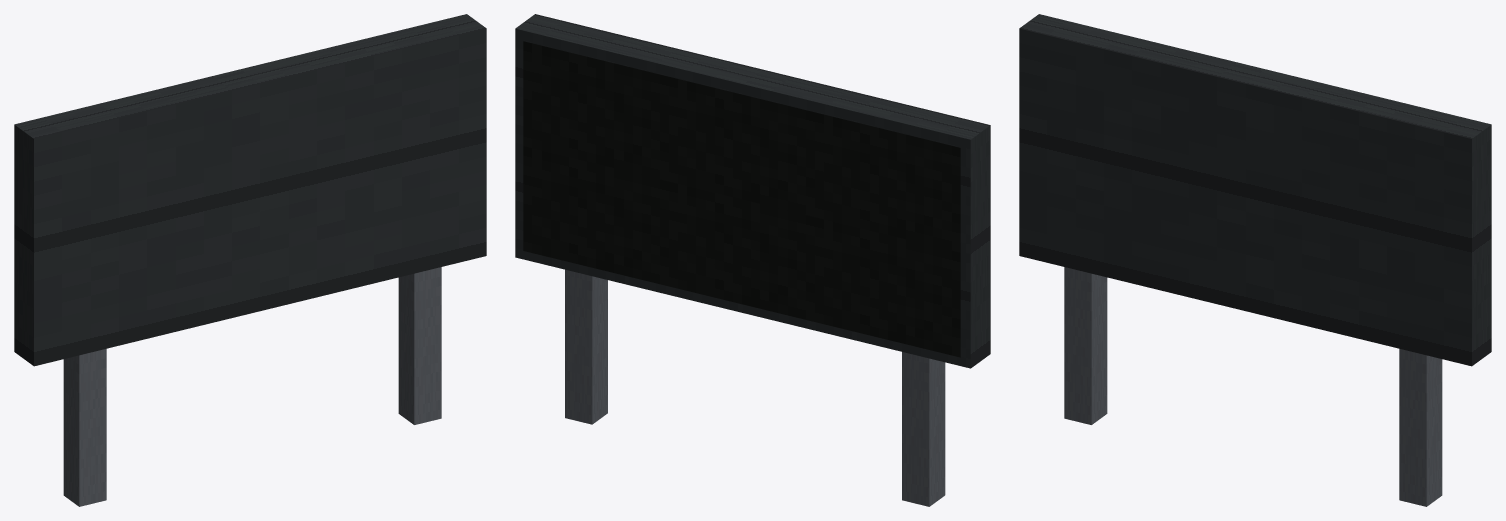
File: scoreboard.obj
The picture shows the model from 3 angles, left to right: view 1: azimuth 30°, elevation 25°; view 2: azimuth 150°, elevation 25°; view 3: azimuth 330°, elevation 25°; orthographic projection.
Visible parts, largest first — view 1: scoreboard; view 2: scoreboard; view 3: scoreboard.
Boxes of the visible parts, x1,y1,x2,y2 form: scoreboard: (14, 14, 486, 506); scoreboard: (515, 14, 990, 506); scoreboard: (1019, 14, 1491, 506).
Bounding box in the file's own units: 3.12 × 2.5 × 0.25.
